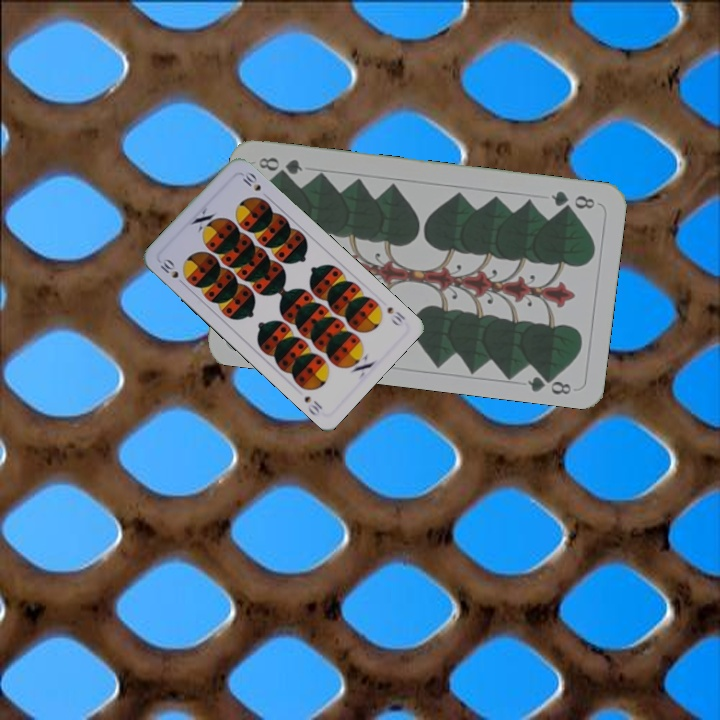G8: (547, 186, 598, 212)
S10: (155, 254, 188, 288), (383, 303, 408, 329)
